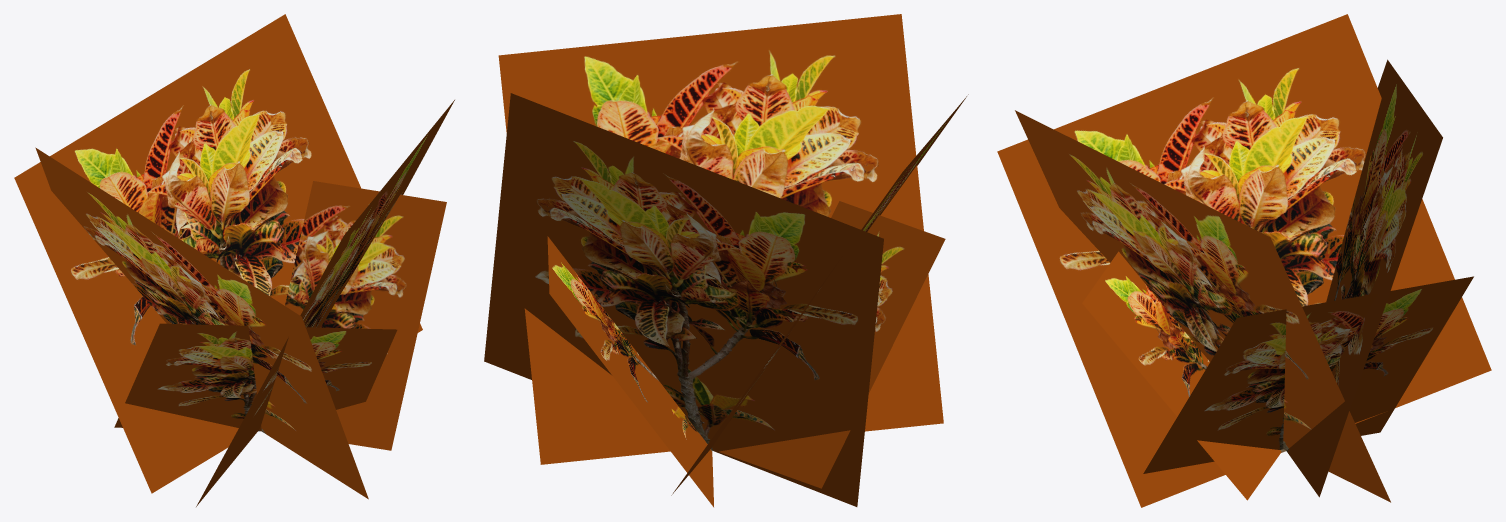
Rendered from gs_bush47.glb.
3 renders of one model, left to right at view 1: azimuth 30°, elevation 25°; view 2: azimuth 150°, elevation 25°; view 3: azimuth 270°, elevation 25°, orthographic. The views are drawn at different scales.
Parts seen in each view (by area): view 1: Plane01; view 2: Plane01; view 3: Plane01.
Part boxes in pixels (x1,y1,x2,y2): Plane01: [14, 14, 454, 506]; Plane01: [484, 14, 968, 507]; Plane01: [997, 14, 1491, 507].
Bounding box in the file's own units: 75.42 × 68.79 × 77.09.
1 material, 1 textured.
